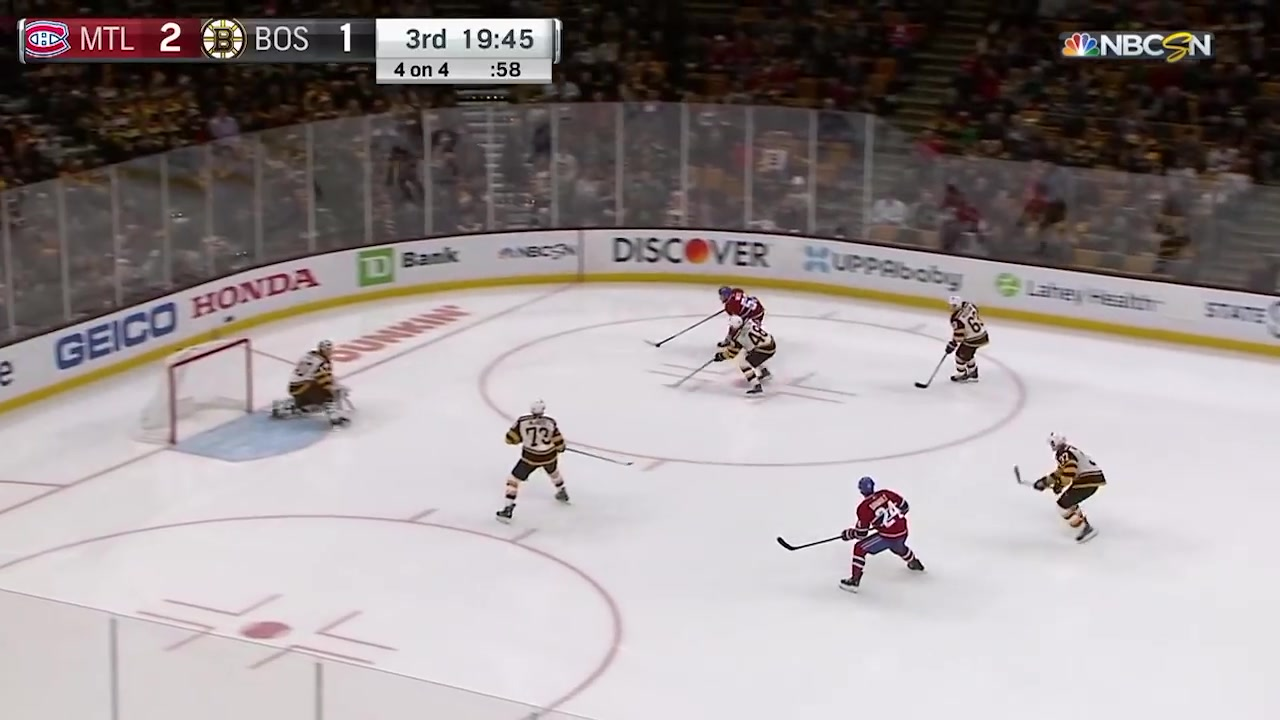geico: (52, 288, 193, 373)
